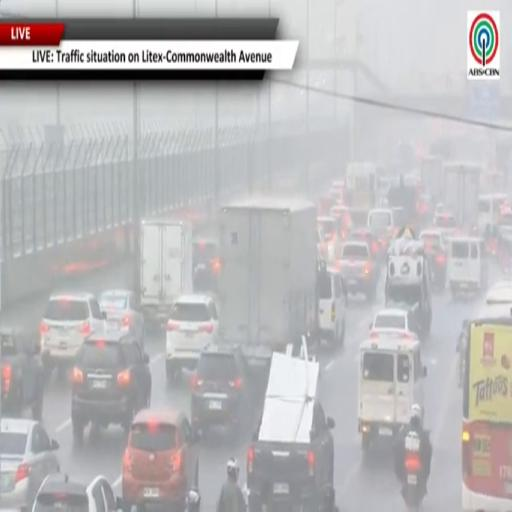bus: (461, 283, 511, 511)
car: (247, 352, 335, 511), (71, 332, 151, 443), (122, 409, 199, 511), (40, 293, 106, 377), (0, 419, 59, 509), (191, 344, 251, 431), (166, 295, 218, 383), (0, 329, 44, 420), (32, 473, 121, 511), (99, 290, 145, 349), (318, 262, 347, 346), (336, 242, 378, 299), (420, 230, 447, 289), (193, 237, 221, 293), (370, 309, 417, 337), (346, 228, 384, 261), (368, 208, 395, 251), (317, 216, 341, 261), (330, 204, 351, 243), (433, 212, 458, 236), (417, 194, 434, 222)
motorcycle: (402, 454, 424, 511), (186, 487, 201, 512)
truck: (218, 197, 318, 367), (140, 219, 193, 325), (444, 163, 481, 228), (345, 163, 377, 212), (420, 155, 443, 203)
